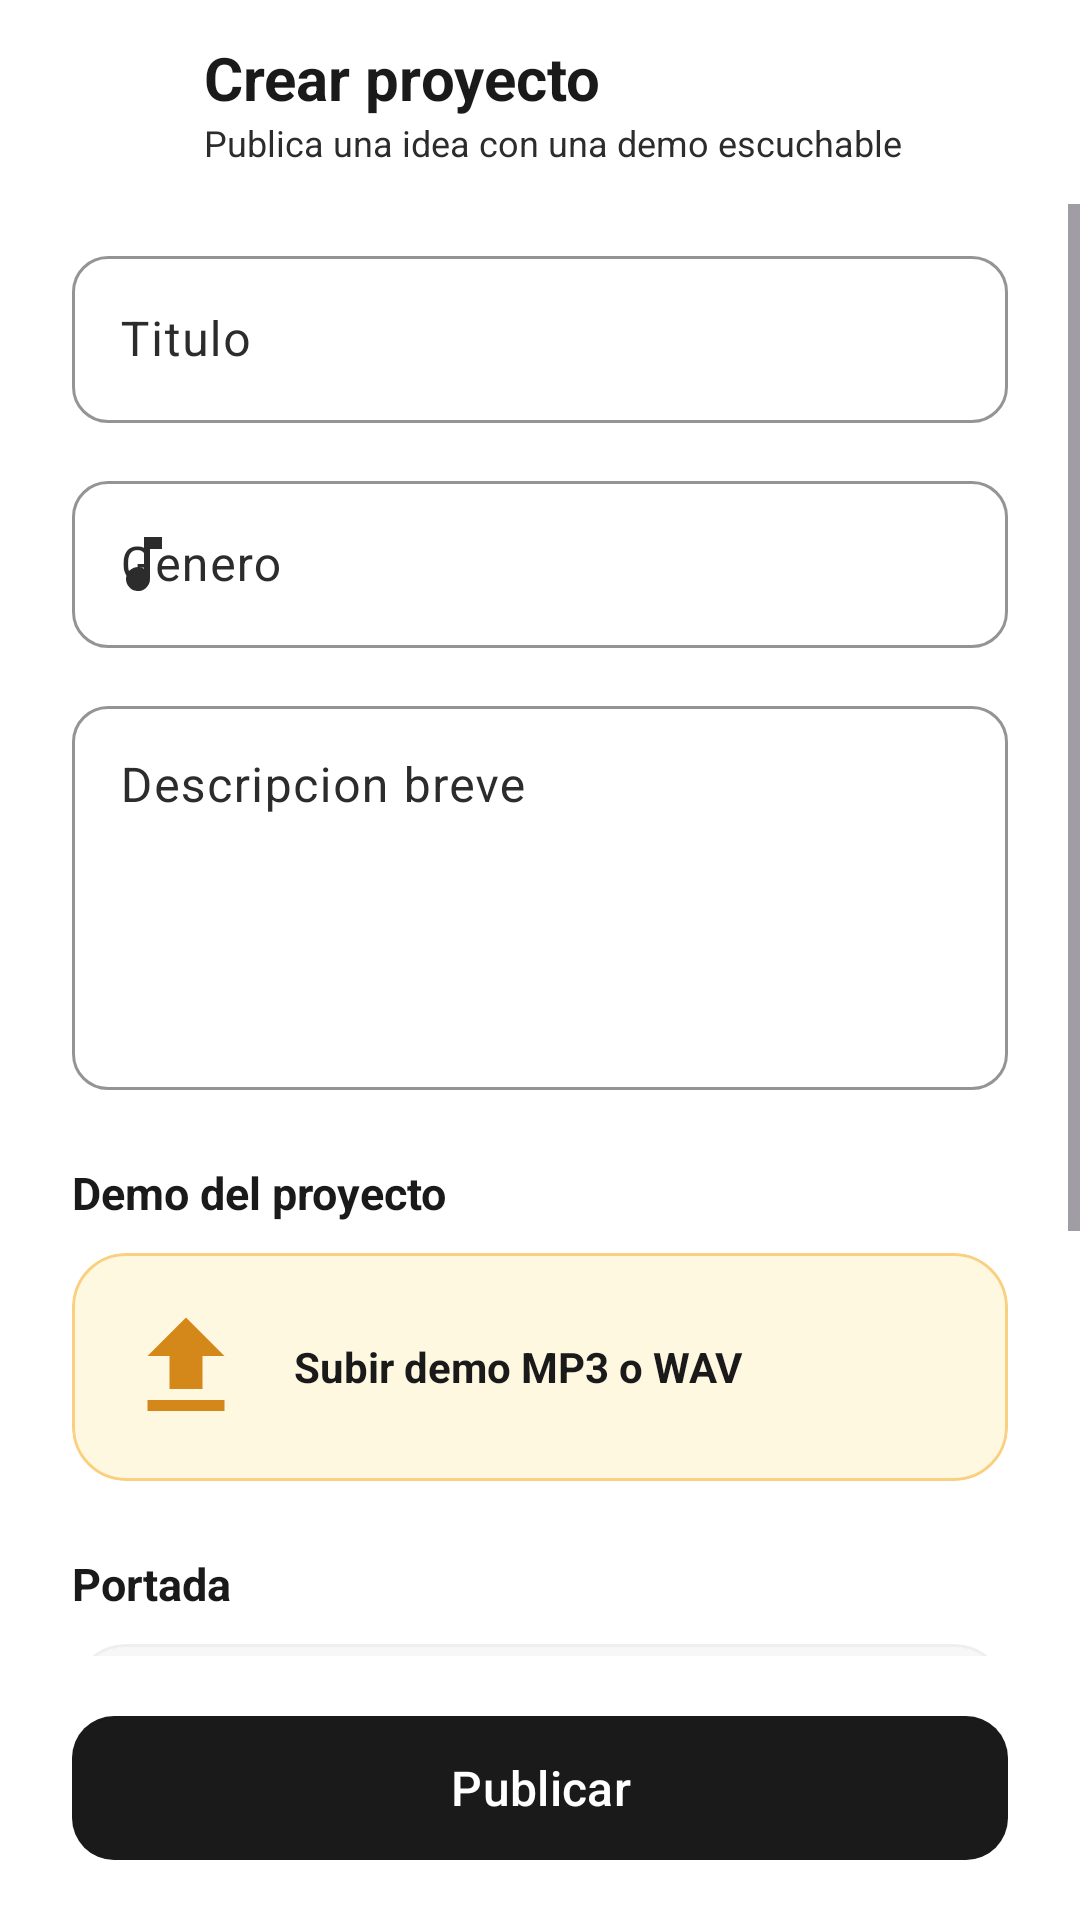

Icons on this 1080x1920 Android screen, each with its box as (x1, y1, x2, y2):
upload: (147, 1317, 225, 1411)
